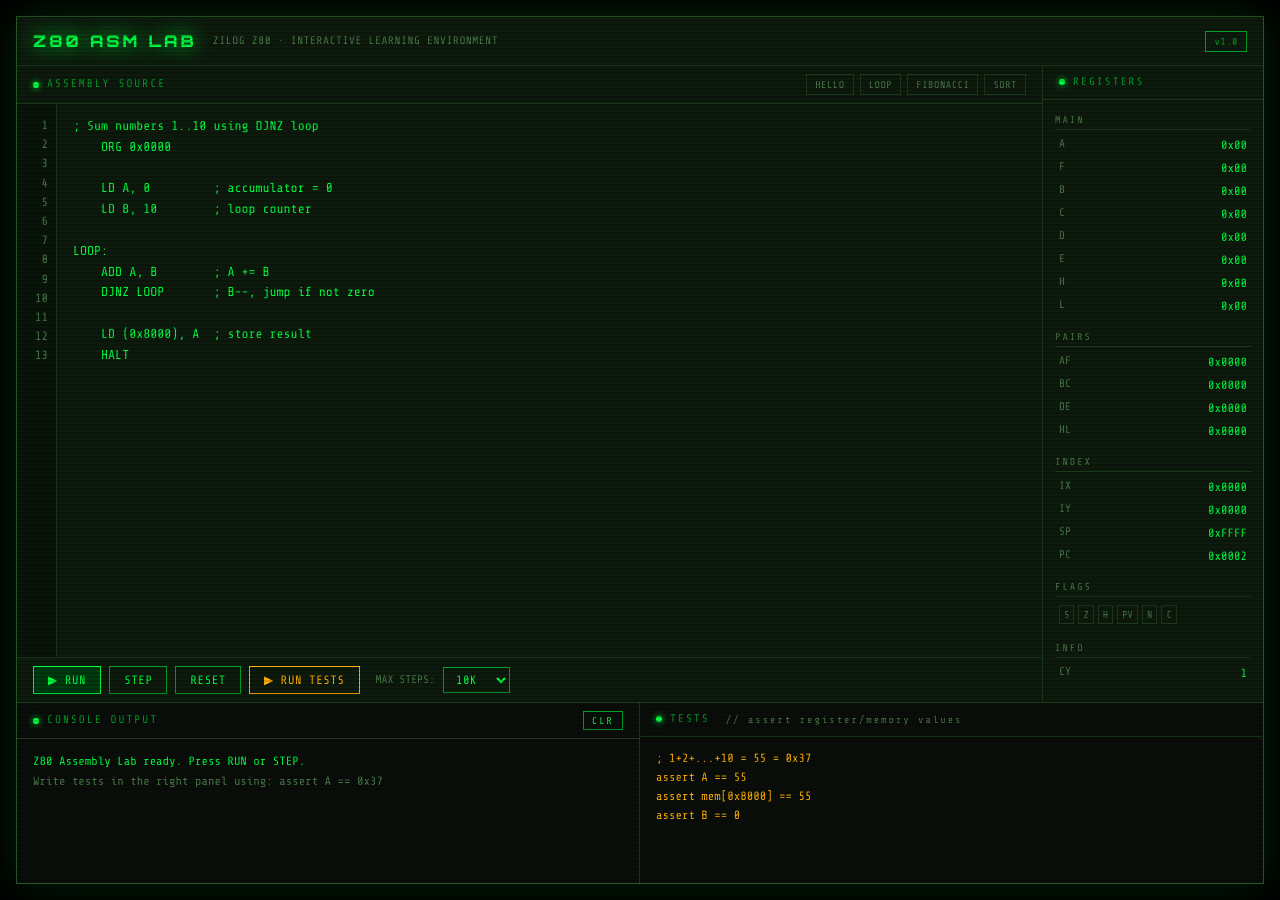
Test: App - assembly error path (lines 44-45) › shows error in console when code has a syntax error
Expected: the text "Z80 Assembly Lab ready. Press RUN or STEP." is shown, [33,754,305,768]
# Use fireEvent.change to reliably replace the controlled textarea value
Replace the text in the text box next to "1 2 3 4 5 6 7 8 9 10 11 12 13" with "BADOPCODE" at (550, 380), box [57,104,1042,657]
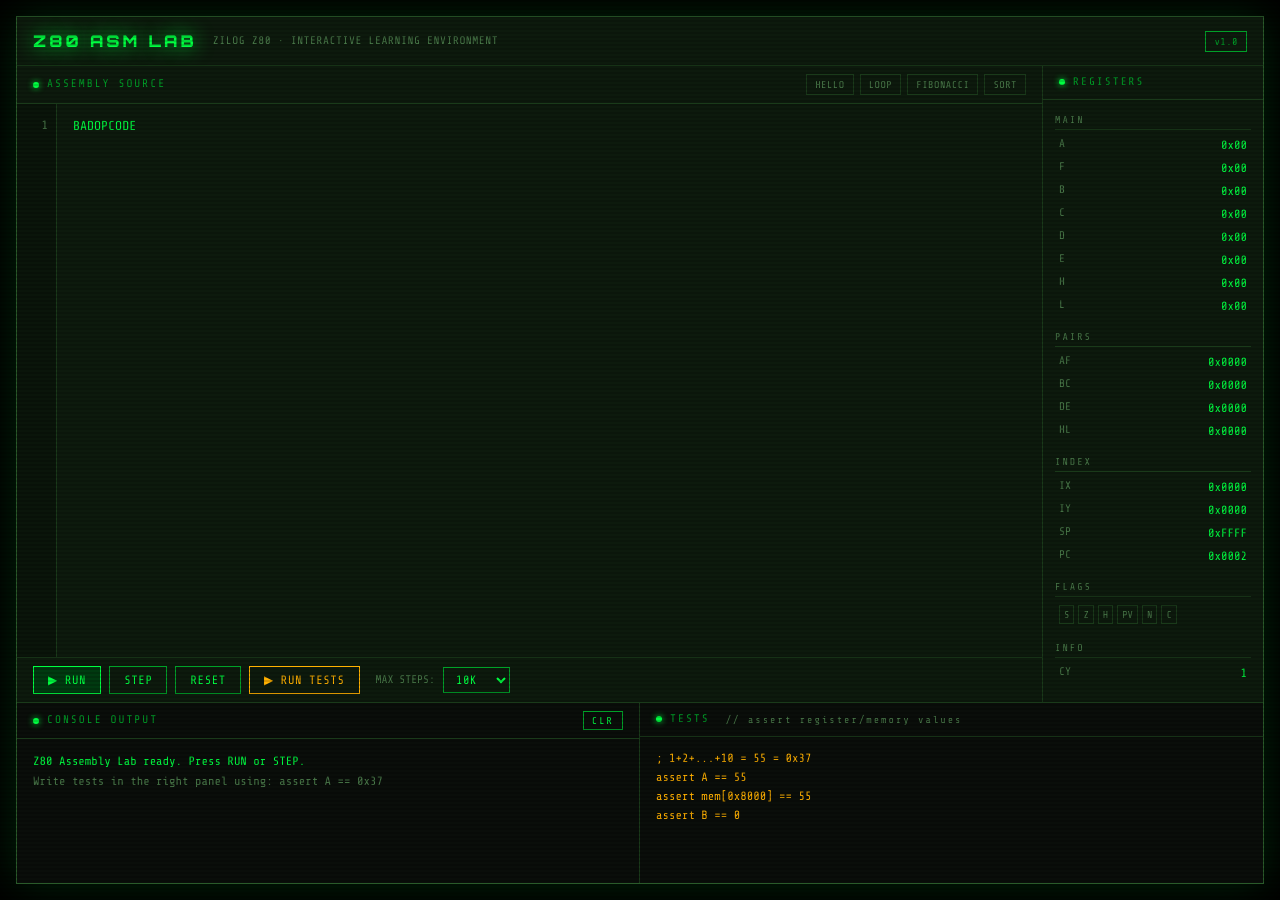
Click the button "▶ RUN" at (67, 680), box [33,666,101,694]
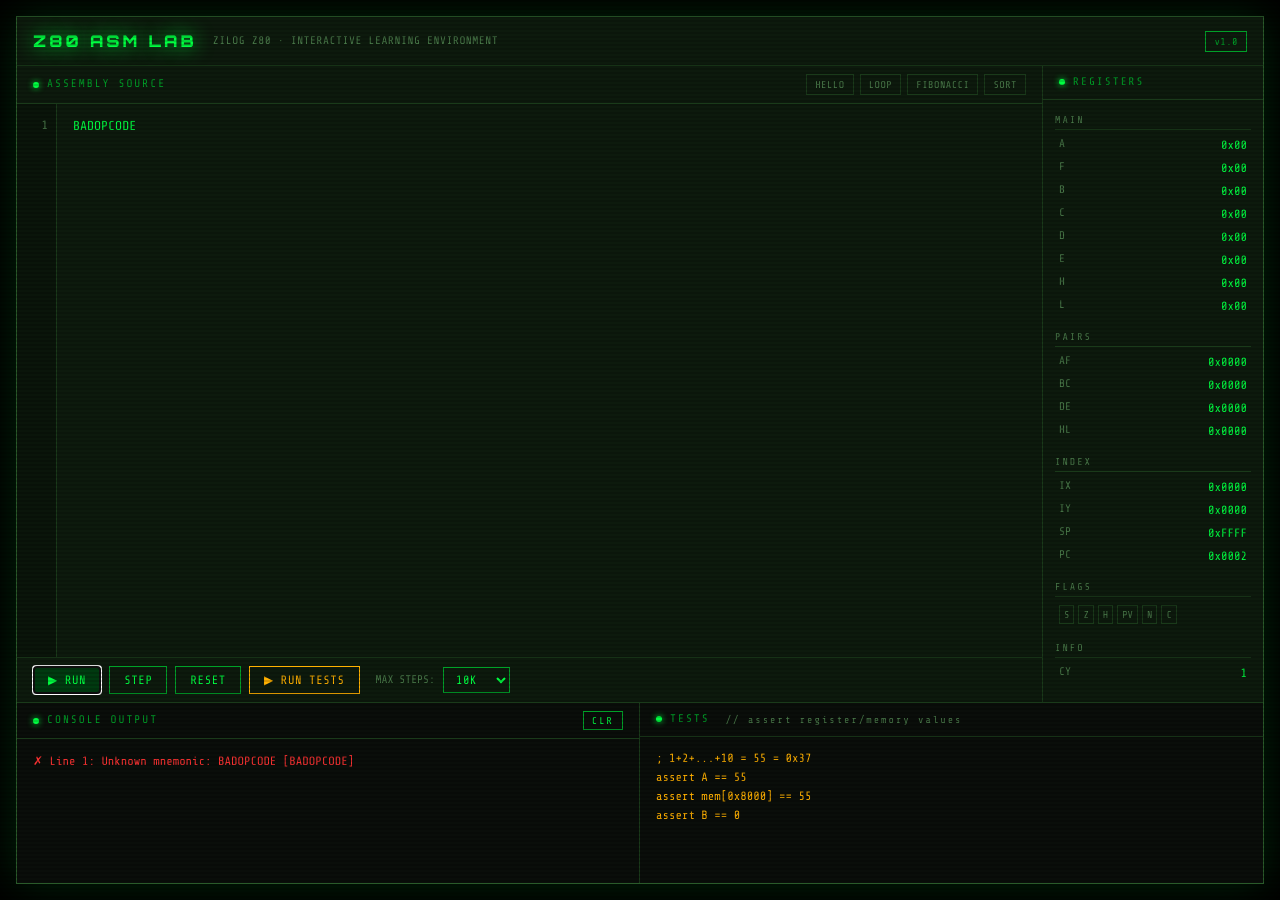
Now the text "✗ Line 1: Unknown mnemonic: BADOPCODE [BADOPCODE]" is shown, box [33,754,354,768]
